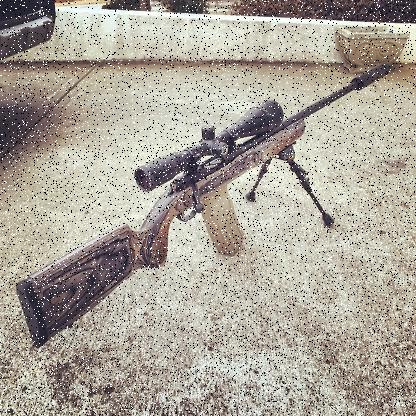gun: (15, 62, 390, 348)
